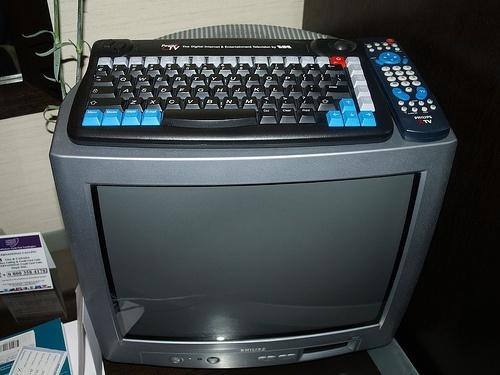tvmonitor: (52, 25, 455, 368)
